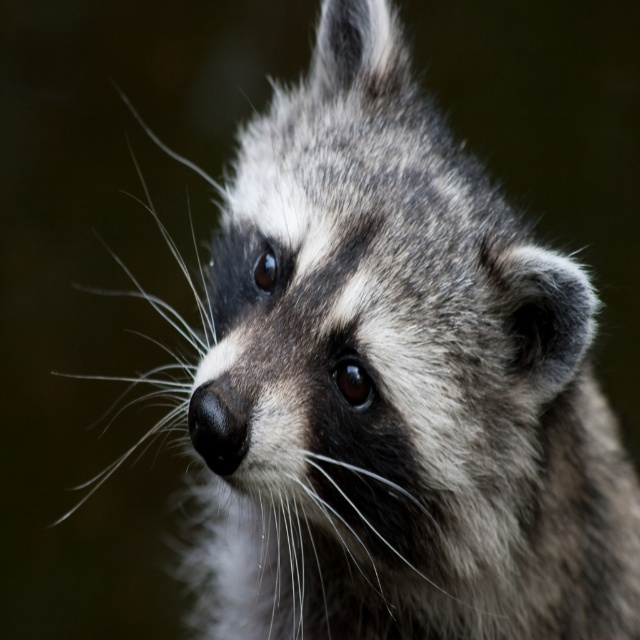Raccoon: (48, 0, 640, 640)
